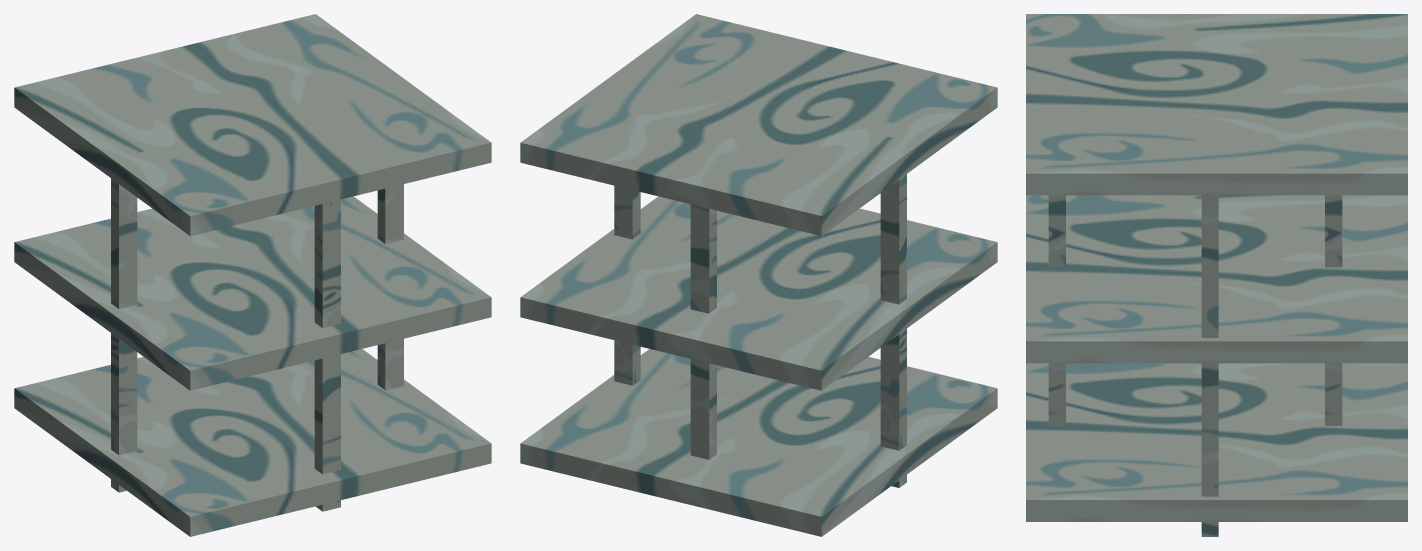
Rendered from Estanteria.fbx.
3 views of the same model, side by side, from view 1: azimuth 30°, elevation 25°; view 2: azimuth 150°, elevation 25°; view 3: azimuth 270°, elevation 25° (orthographic). The views are drawn at different scales.
Visible parts, largest first — view 1: polySurface4, polySurface2; view 2: polySurface4, polySurface2; view 3: polySurface4, polySurface2.
Part boxes in pixels (box(x1,y1,x2,y2)): polySurface4: box(14, 14, 491, 536); polySurface2: box(111, 178, 403, 511); polySurface4: box(520, 14, 997, 536); polySurface2: box(614, 174, 906, 487); polySurface4: box(1026, 14, 1407, 521); polySurface2: box(1048, 195, 1342, 536).
Bounding box in the file's own units: 52.81 × 56.61 × 53.37.
Materials: 1 (1 with a texture image).
